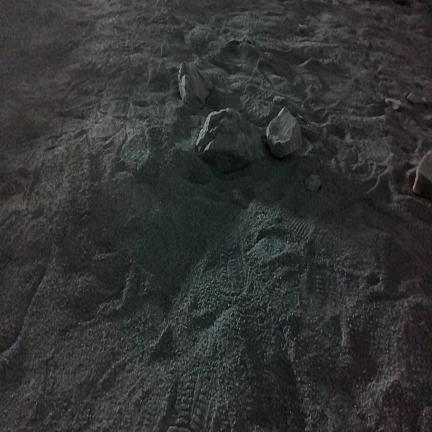Rock: (197, 108, 263, 172), (266, 107, 302, 158), (179, 62, 211, 108), (413, 151, 431, 199), (407, 92, 431, 103), (305, 175, 321, 191), (229, 35, 252, 44), (385, 98, 401, 110), (272, 95, 286, 105)
